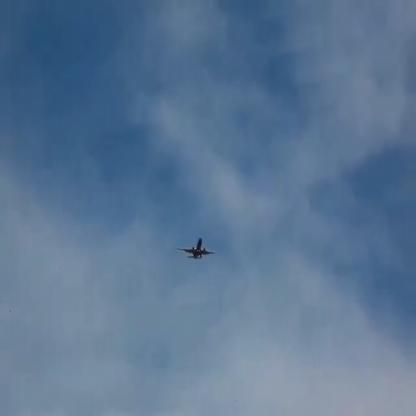CIV_Plane: (175, 238, 216, 260)
